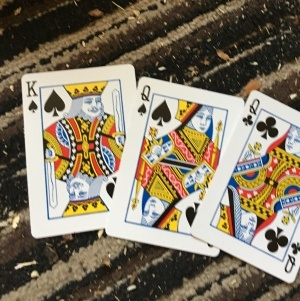card: (107, 76, 243, 255), (22, 64, 138, 237)
